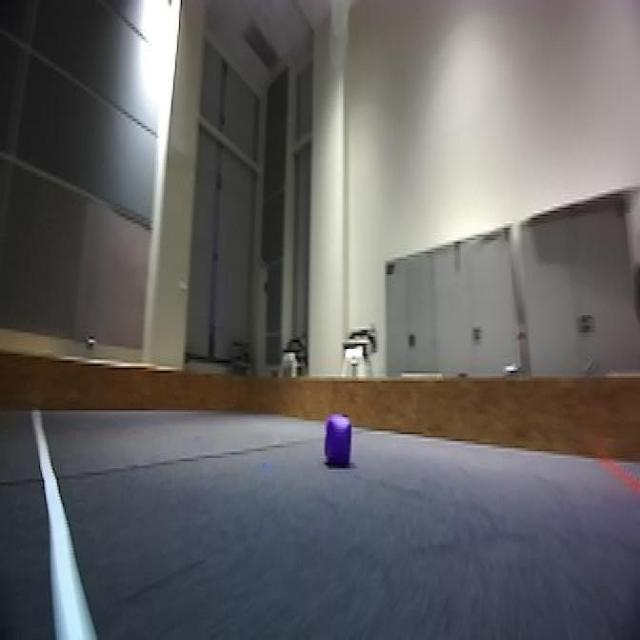frc_cube: (322, 415, 355, 470)
